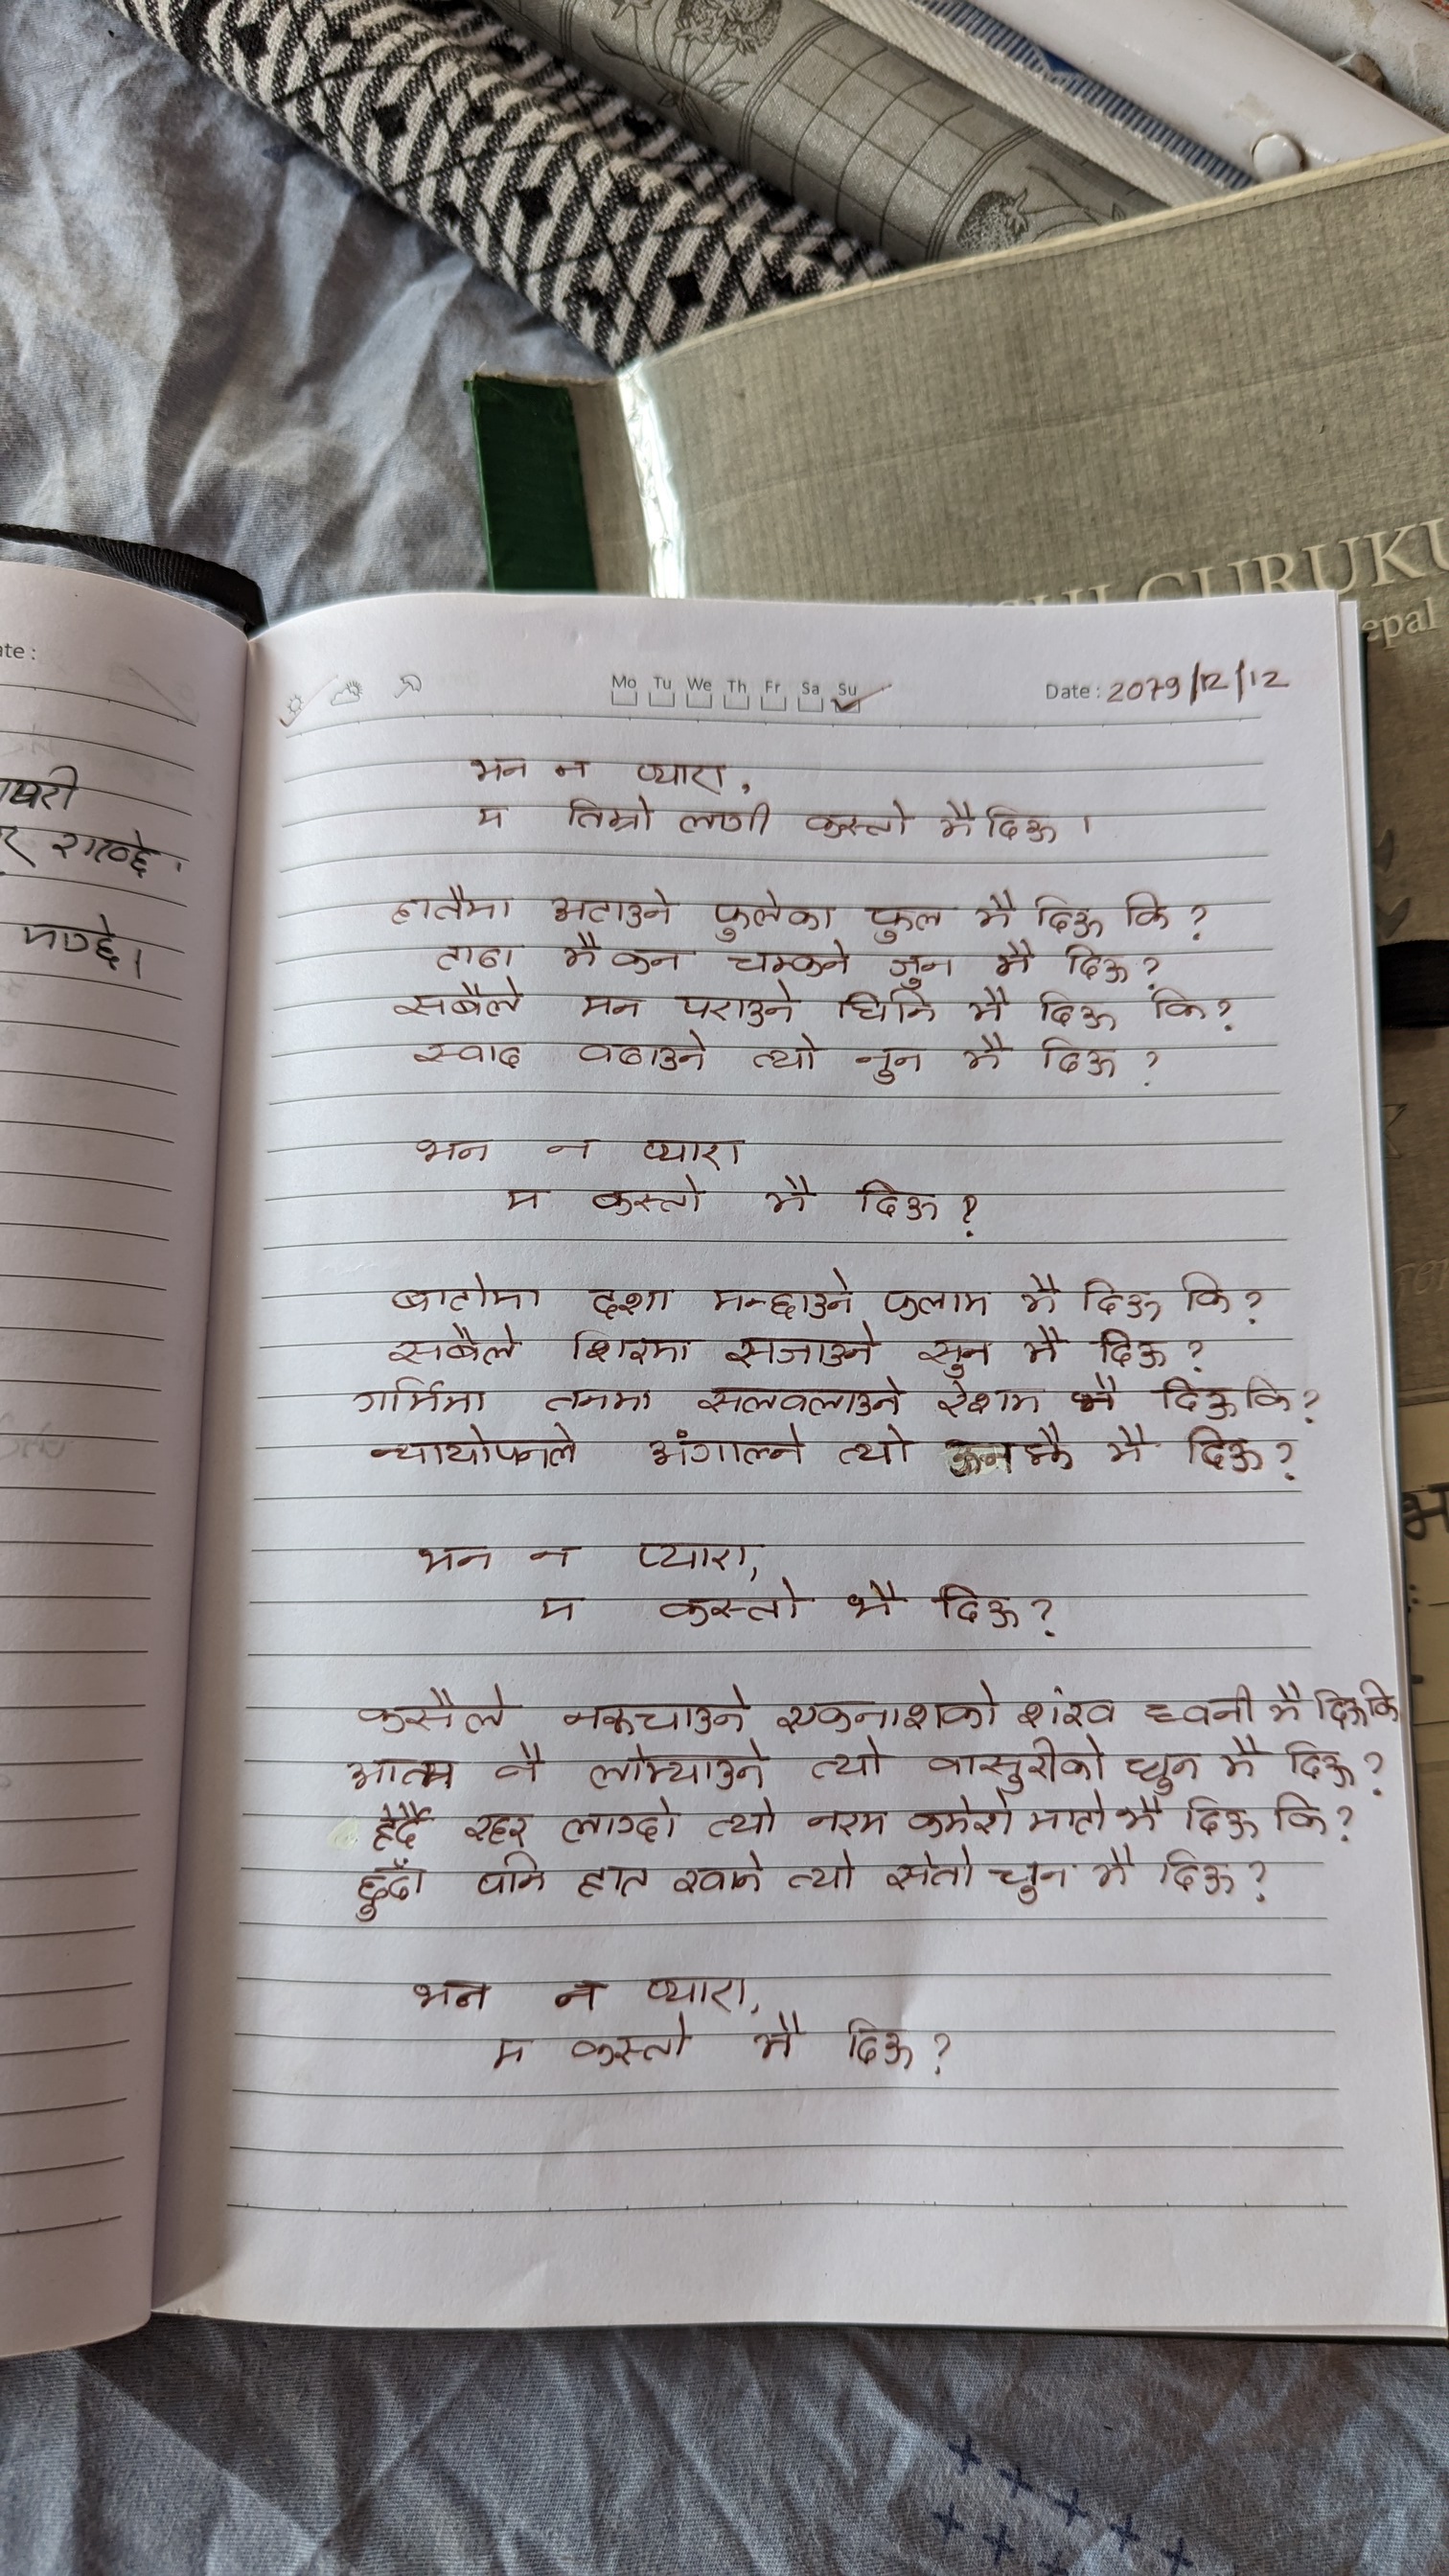text: (773, 1681, 1001, 1737), (925, 1734, 1111, 1792), (364, 1419, 575, 1470), (559, 1684, 759, 1737), (695, 1371, 909, 1421), (587, 1737, 770, 1792), (706, 1265, 855, 1322), (722, 1318, 883, 1369), (354, 1684, 513, 1736), (644, 1421, 809, 1470), (651, 1578, 809, 1629), (939, 1421, 1076, 1479), (573, 1024, 708, 1077), (711, 888, 835, 945), (384, 1322, 525, 1369), (568, 2015, 695, 2068), (350, 1371, 495, 1417), (389, 1272, 545, 1315), (561, 1796, 683, 1849), (674, 977, 796, 1028), (547, 885, 674, 931), (1143, 1681, 1258, 1730), (568, 1325, 694, 1369), (1016, 1681, 1122, 1732), (906, 1790, 1016, 1840), (389, 977, 522, 1017), (387, 885, 513, 927), (352, 1854, 428, 1923), (720, 938, 855, 977), (591, 1175, 704, 1221), (881, 1281, 994, 1327), (934, 1580, 1023, 1637), (644, 1971, 752, 2017), (345, 1753, 456, 1798), (671, 1847, 766, 1898), (985, 1856, 1074, 1911), (858, 1177, 947, 1228), (803, 800, 909, 842), (1185, 1422, 1265, 1479), (1157, 1844, 1238, 1898), (1281, 1734, 1361, 1789), (844, 2013, 916, 2074), (934, 1380, 1046, 1419), (1077, 1274, 1164, 1323), (563, 791, 655, 837), (885, 1847, 977, 1893), (839, 985, 939, 1026), (635, 1536, 750, 1571), (1095, 1323, 1175, 1373), (810, 1734, 890, 1783), (1039, 1033, 1123, 1079), (1157, 1375, 1238, 1422), (862, 902, 952, 945), (639, 1134, 747, 1169), (541, 1385, 660, 1417), (916, 1332, 993, 1382), (674, 798, 775, 835), (1185, 1792, 1258, 1844), (476, 1851, 548, 1902), (784, 1845, 858, 1895), (1035, 987, 1118, 1031), (833, 1422, 913, 1468), (1123, 1748, 1203, 1794), (410, 1040, 524, 1072), (1026, 1794, 1108, 1838), (1030, 893, 1108, 939), (630, 759, 725, 796), (706, 1796, 780, 1844), (984, 801, 1062, 846), (1270, 1785, 1330, 1842), (750, 2012, 812, 2066), (407, 1980, 497, 2017), (801, 1805, 890, 1842), (587, 1284, 671, 1323), (488, 1739, 552, 1789), (750, 1028, 817, 1074), (370, 1801, 432, 1851), (410, 1543, 495, 1578), (1062, 943, 1131, 985), (846, 1575, 904, 1624), (855, 1044, 925, 1085), (886, 950, 959, 989), (1085, 1840, 1139, 1890), (575, 1865, 655, 1898), (1150, 985, 1212, 1028), (1238, 1371, 1295, 1417), (435, 941, 517, 973), (414, 1136, 495, 1168), (464, 752, 533, 789), (460, 1813, 536, 1847), (607, 945, 686, 977), (1177, 1269, 1231, 1315), (763, 1173, 816, 1219), (1311, 1683, 1364, 1729), (1100, 1422, 1157, 1465), (1070, 1373, 1122, 1419), (1113, 1790, 1164, 1836), (1214, 1736, 1269, 1778), (1017, 1270, 1062, 1320), (1263, 1679, 1307, 1729), (966, 892, 1019, 932), (1122, 890, 1175, 931), (1019, 1323, 1069, 1366), (959, 1030, 1005, 1074), (548, 1980, 605, 2013), (559, 927, 602, 971), (575, 994, 640, 1023), (527, 1539, 582, 1573), (936, 796, 977, 840), (1362, 1675, 1399, 1723), (993, 939, 1033, 982), (964, 984, 1007, 1023), (533, 1594, 584, 1626), (545, 1134, 598, 1164), (488, 2036, 531, 2074), (502, 1185, 548, 1215), (548, 757, 593, 782), (474, 801, 508, 833)
